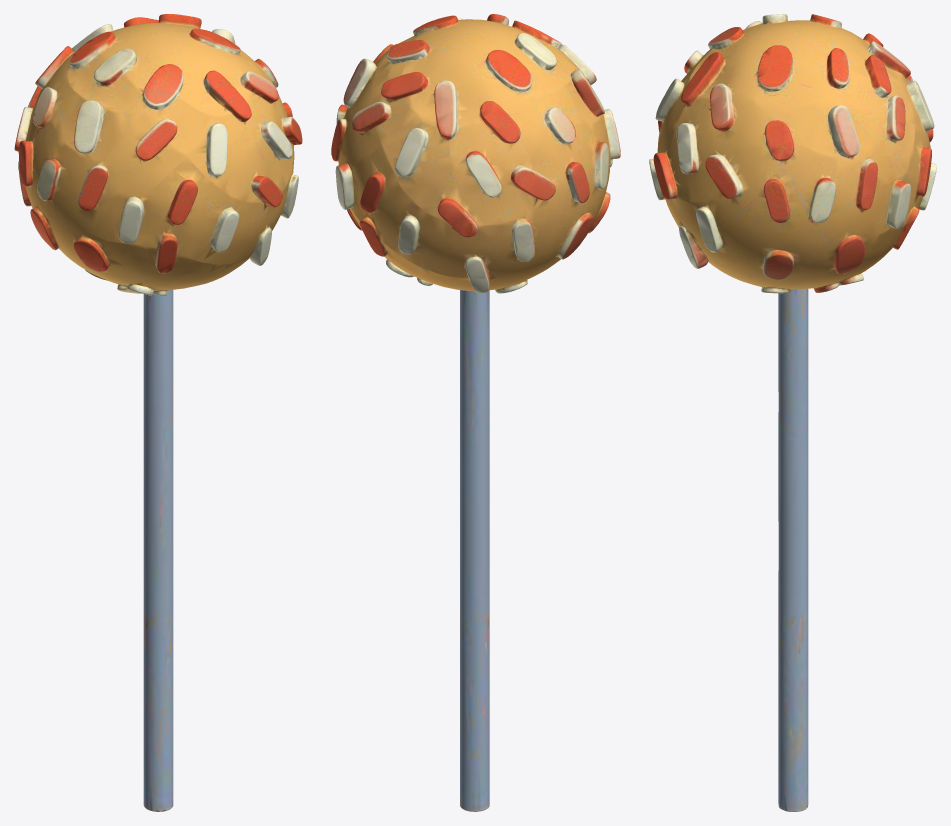
3 renders of one model, left to right at view 1: azimuth 30°, elevation 25°; view 2: azimuth 150°, elevation 25°; view 3: azimuth 270°, elevation 25°, orthographic.
Size of the model in its own units: 0.6373 by 1.9 by 0.64.
1 material, 1 textured.
